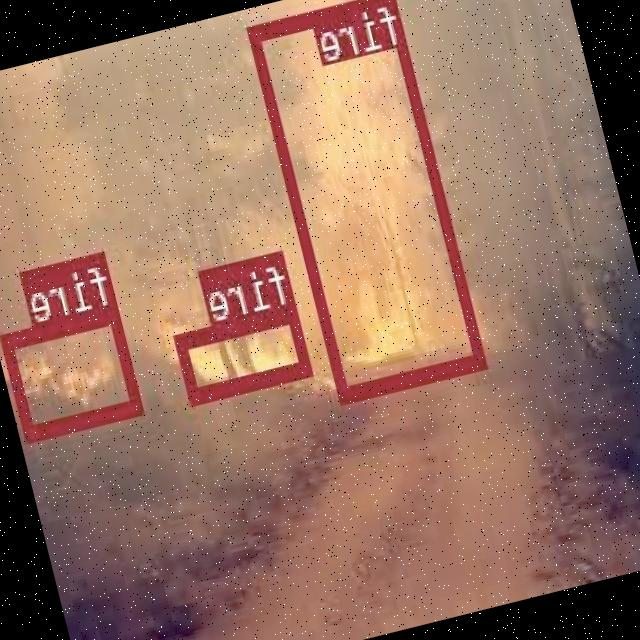fire: (248, 0, 488, 401), (0, 302, 145, 440), (174, 302, 313, 402)
